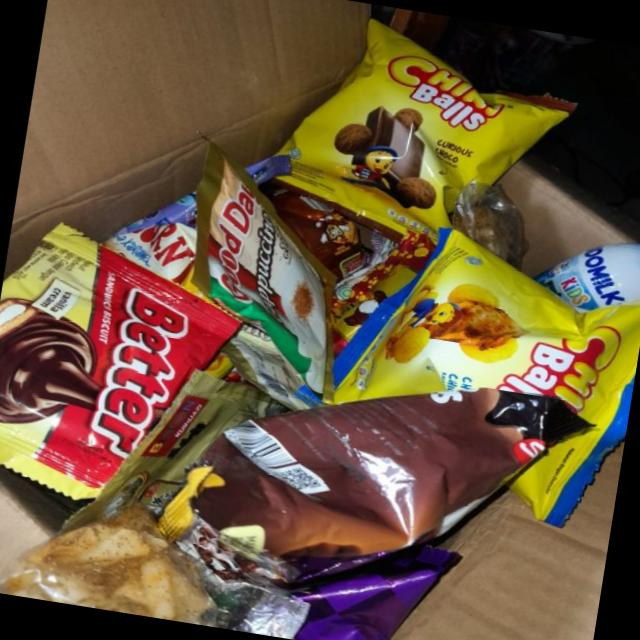KemasanPlastik: (313, 195, 640, 521), (264, 2, 582, 262), (0, 211, 251, 521), (150, 130, 376, 398)
